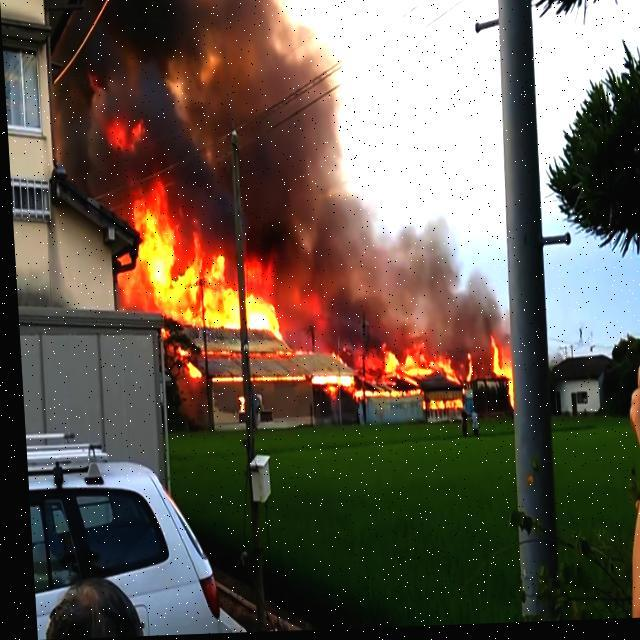Fire: (98, 183, 290, 354), (344, 344, 469, 390), (484, 340, 509, 410), (102, 120, 144, 150), (348, 389, 418, 402), (414, 398, 459, 412), (270, 348, 302, 360), (324, 352, 342, 369)
